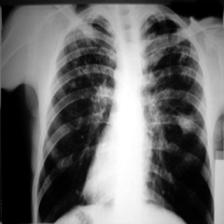tuberculosis: (29, 1, 220, 224)
